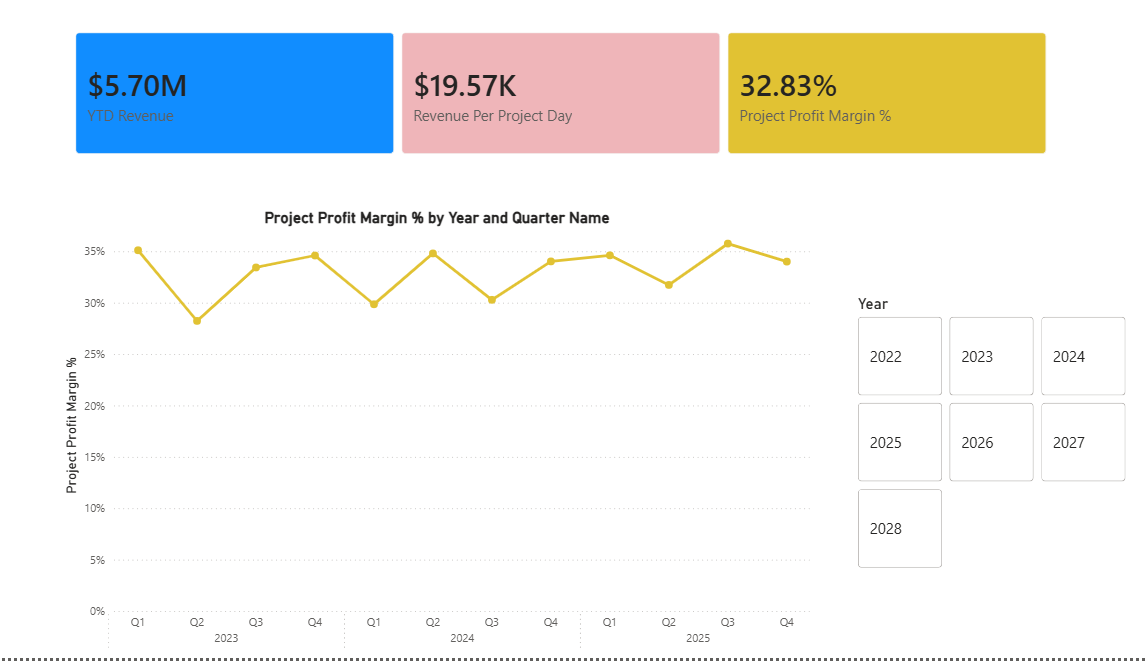

What the dashboard file says about the page in this screenshot:
{"tool":"powerbi","page":{"name":"Executive Project Overview","canvas":[1280,720],"ordinal":3},"visuals":[{"type":"cardVisual","fields":{"Data":["ProjectSales.YTD Revenue","ProjectSales.Revenue Per Project Day","ProjectSales.Project Profit Margin %"]},"box":[99.2,27.1,1082.2,165.9],"z":0},{"type":"lineChart","fields":{"Y":["ProjectSales.Project Profit Margin %"],"Category":["Date.Year Hierarchy.Year","Date.Year Hierarchy.Quarter Name"]},"box":[99.2,234.5,815.3,485.2],"z":1000},{"type":"advancedSlicerVisual","fields":{"Values":["Date.Year Hierarchy.Year"]},"box":[956,326.5,301.2,301.2],"z":2000}]}

Visuals, with their boxes in screenshot pixels (x1, y1, x2, y2), scaled from the page's 1280x720 canvas onto the 1146x661 screenshot:
cardVisual - ProjectSales.YTD Revenue x ProjectSales.Revenue Per Project Day: 89/25/1058/177
lineChart - ProjectSales.Project Profit Margin % x Date.Year Hierarchy.Year: 89/215/819/660
advancedSlicerVisual - Date.Year Hierarchy.Year: 856/300/1126/576
